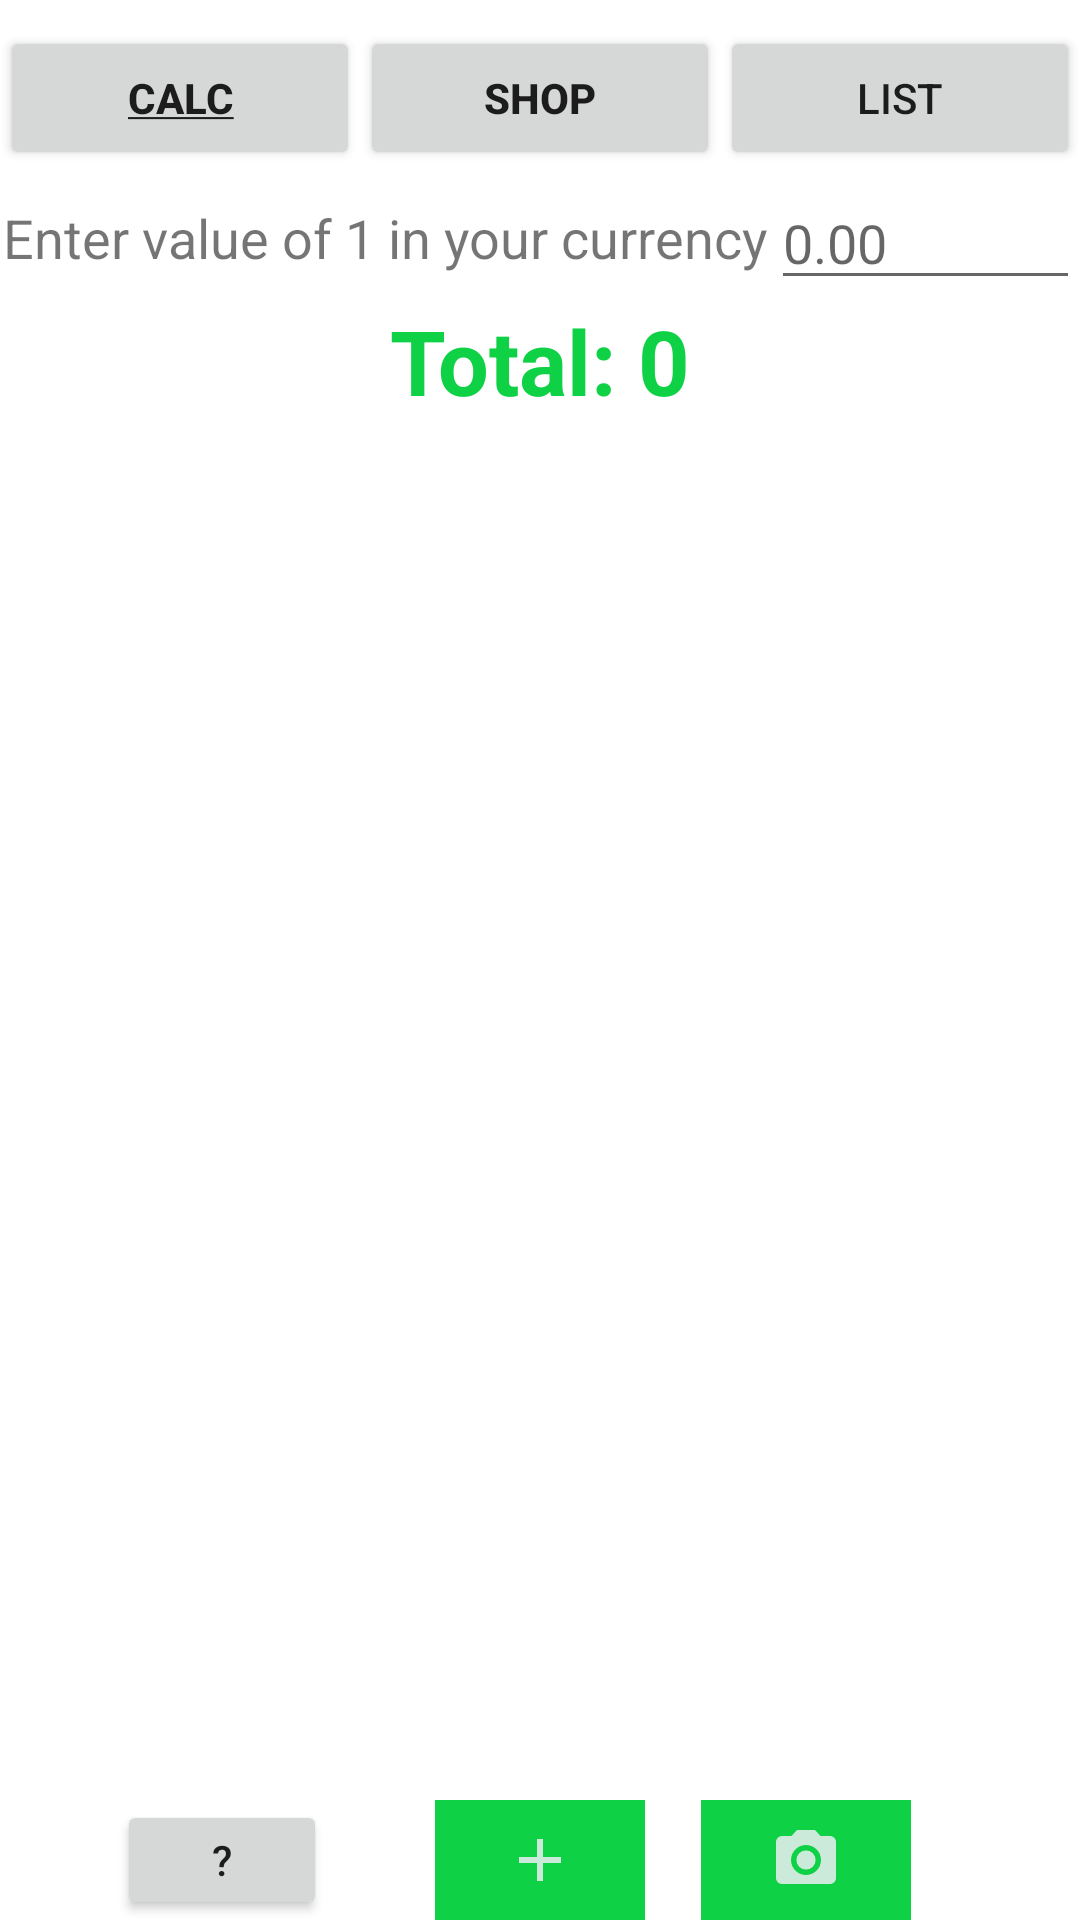

Screen size 1080px×1920px. Icon name, then its center in pixels as [x,y]:
plus: [540,1860]
slika: [806,1860]
